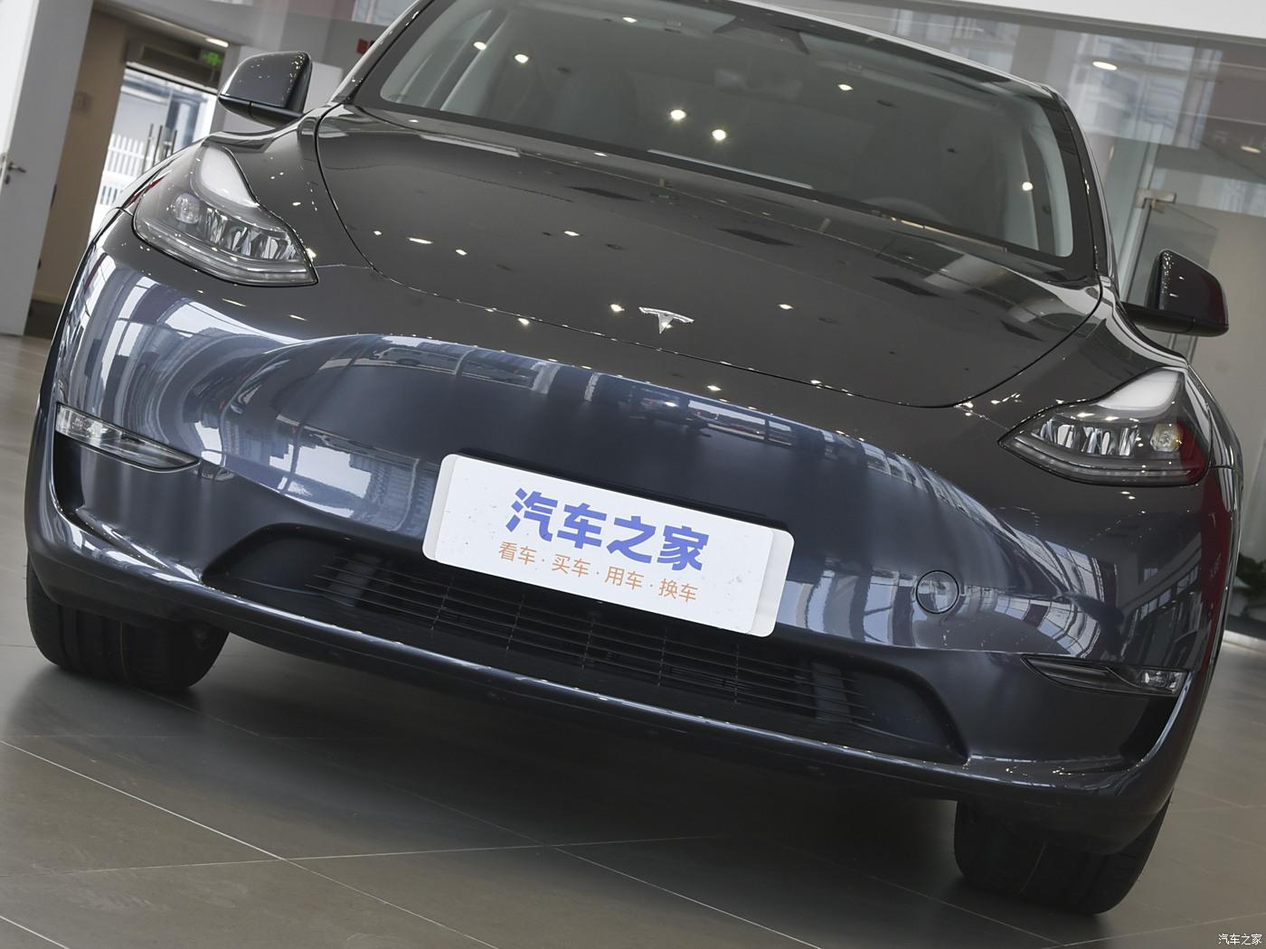Tesla: (638, 307, 694, 334)
